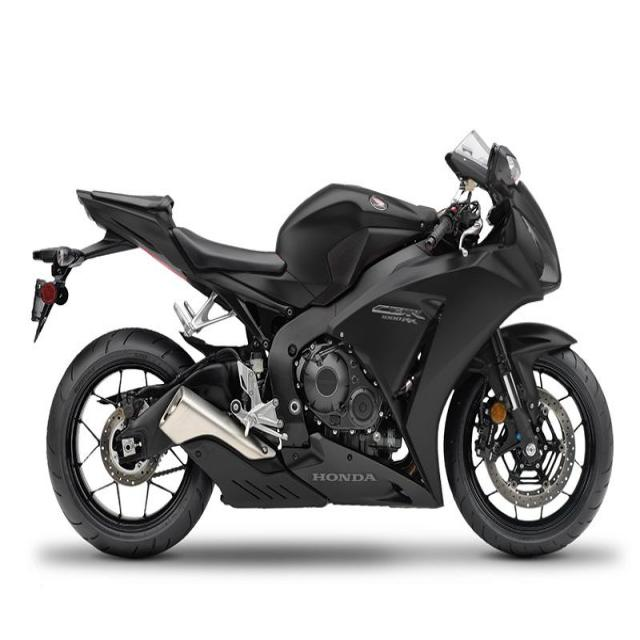Motorcycle: (30, 130, 614, 557)
